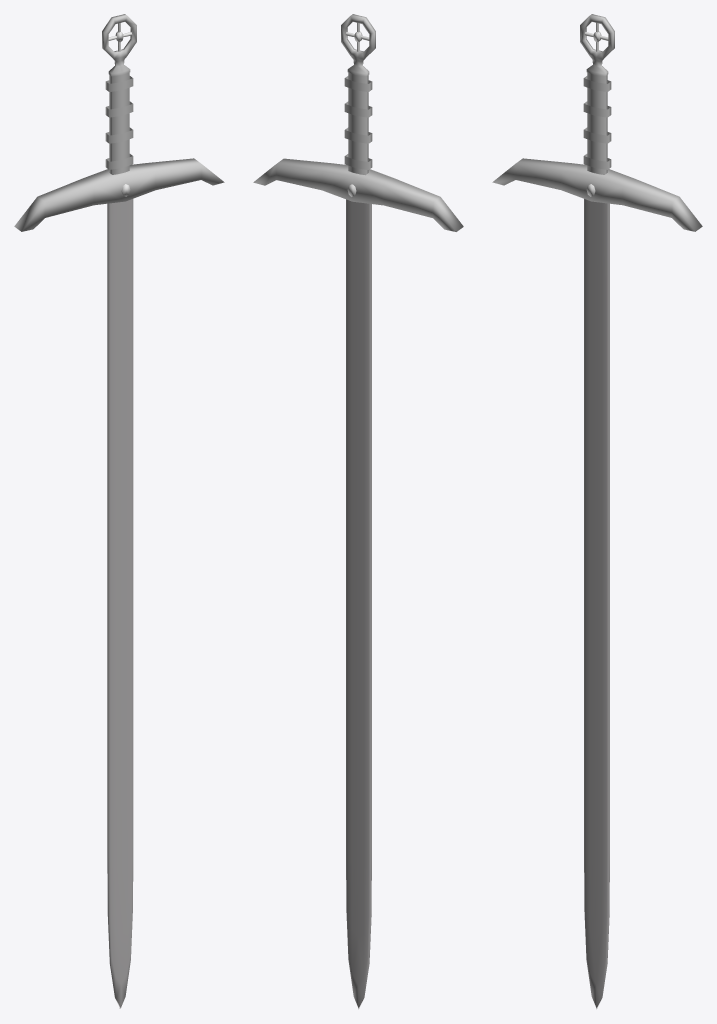
File: KingSword.fbx
3 renders of one model, left to right at view 1: azimuth 30°, elevation 25°; view 2: azimuth 150°, elevation 25°; view 3: azimuth 330°, elevation 25°, orthographic.
Parts seen in each view (by area): view 1: KingSword_Edge, KingSword_Handle, KingSword_OrnamentHandle, KingSword_OrnamentExterior; view 2: KingSword_Edge, KingSword_Handle, KingSword_OrnamentHandle, KingSword_OrnamentExterior; view 3: KingSword_Edge, KingSword_Handle, KingSword_OrnamentHandle, KingSword_OrnamentExterior.
Part boxes in pixels (x1,y1,x2,y2): KingSword_Edge: (107, 199, 133, 1008); KingSword_Handle: (14, 158, 224, 231); KingSword_OrnamentHandle: (109, 72, 129, 174); KingSword_OrnamentExterior: (102, 14, 136, 76); KingSword_Edge: (346, 199, 371, 1008); KingSword_Handle: (253, 158, 463, 231); KingSword_OrnamentHandle: (348, 72, 368, 175); KingSword_OrnamentExterior: (341, 14, 375, 76); KingSword_Edge: (584, 199, 609, 1008); KingSword_Handle: (492, 158, 702, 231); KingSword_OrnamentHandle: (587, 72, 607, 174); KingSword_OrnamentExterior: (580, 14, 614, 76).
Bounding box in the file's own units: 25.6 × 119 × 3.
